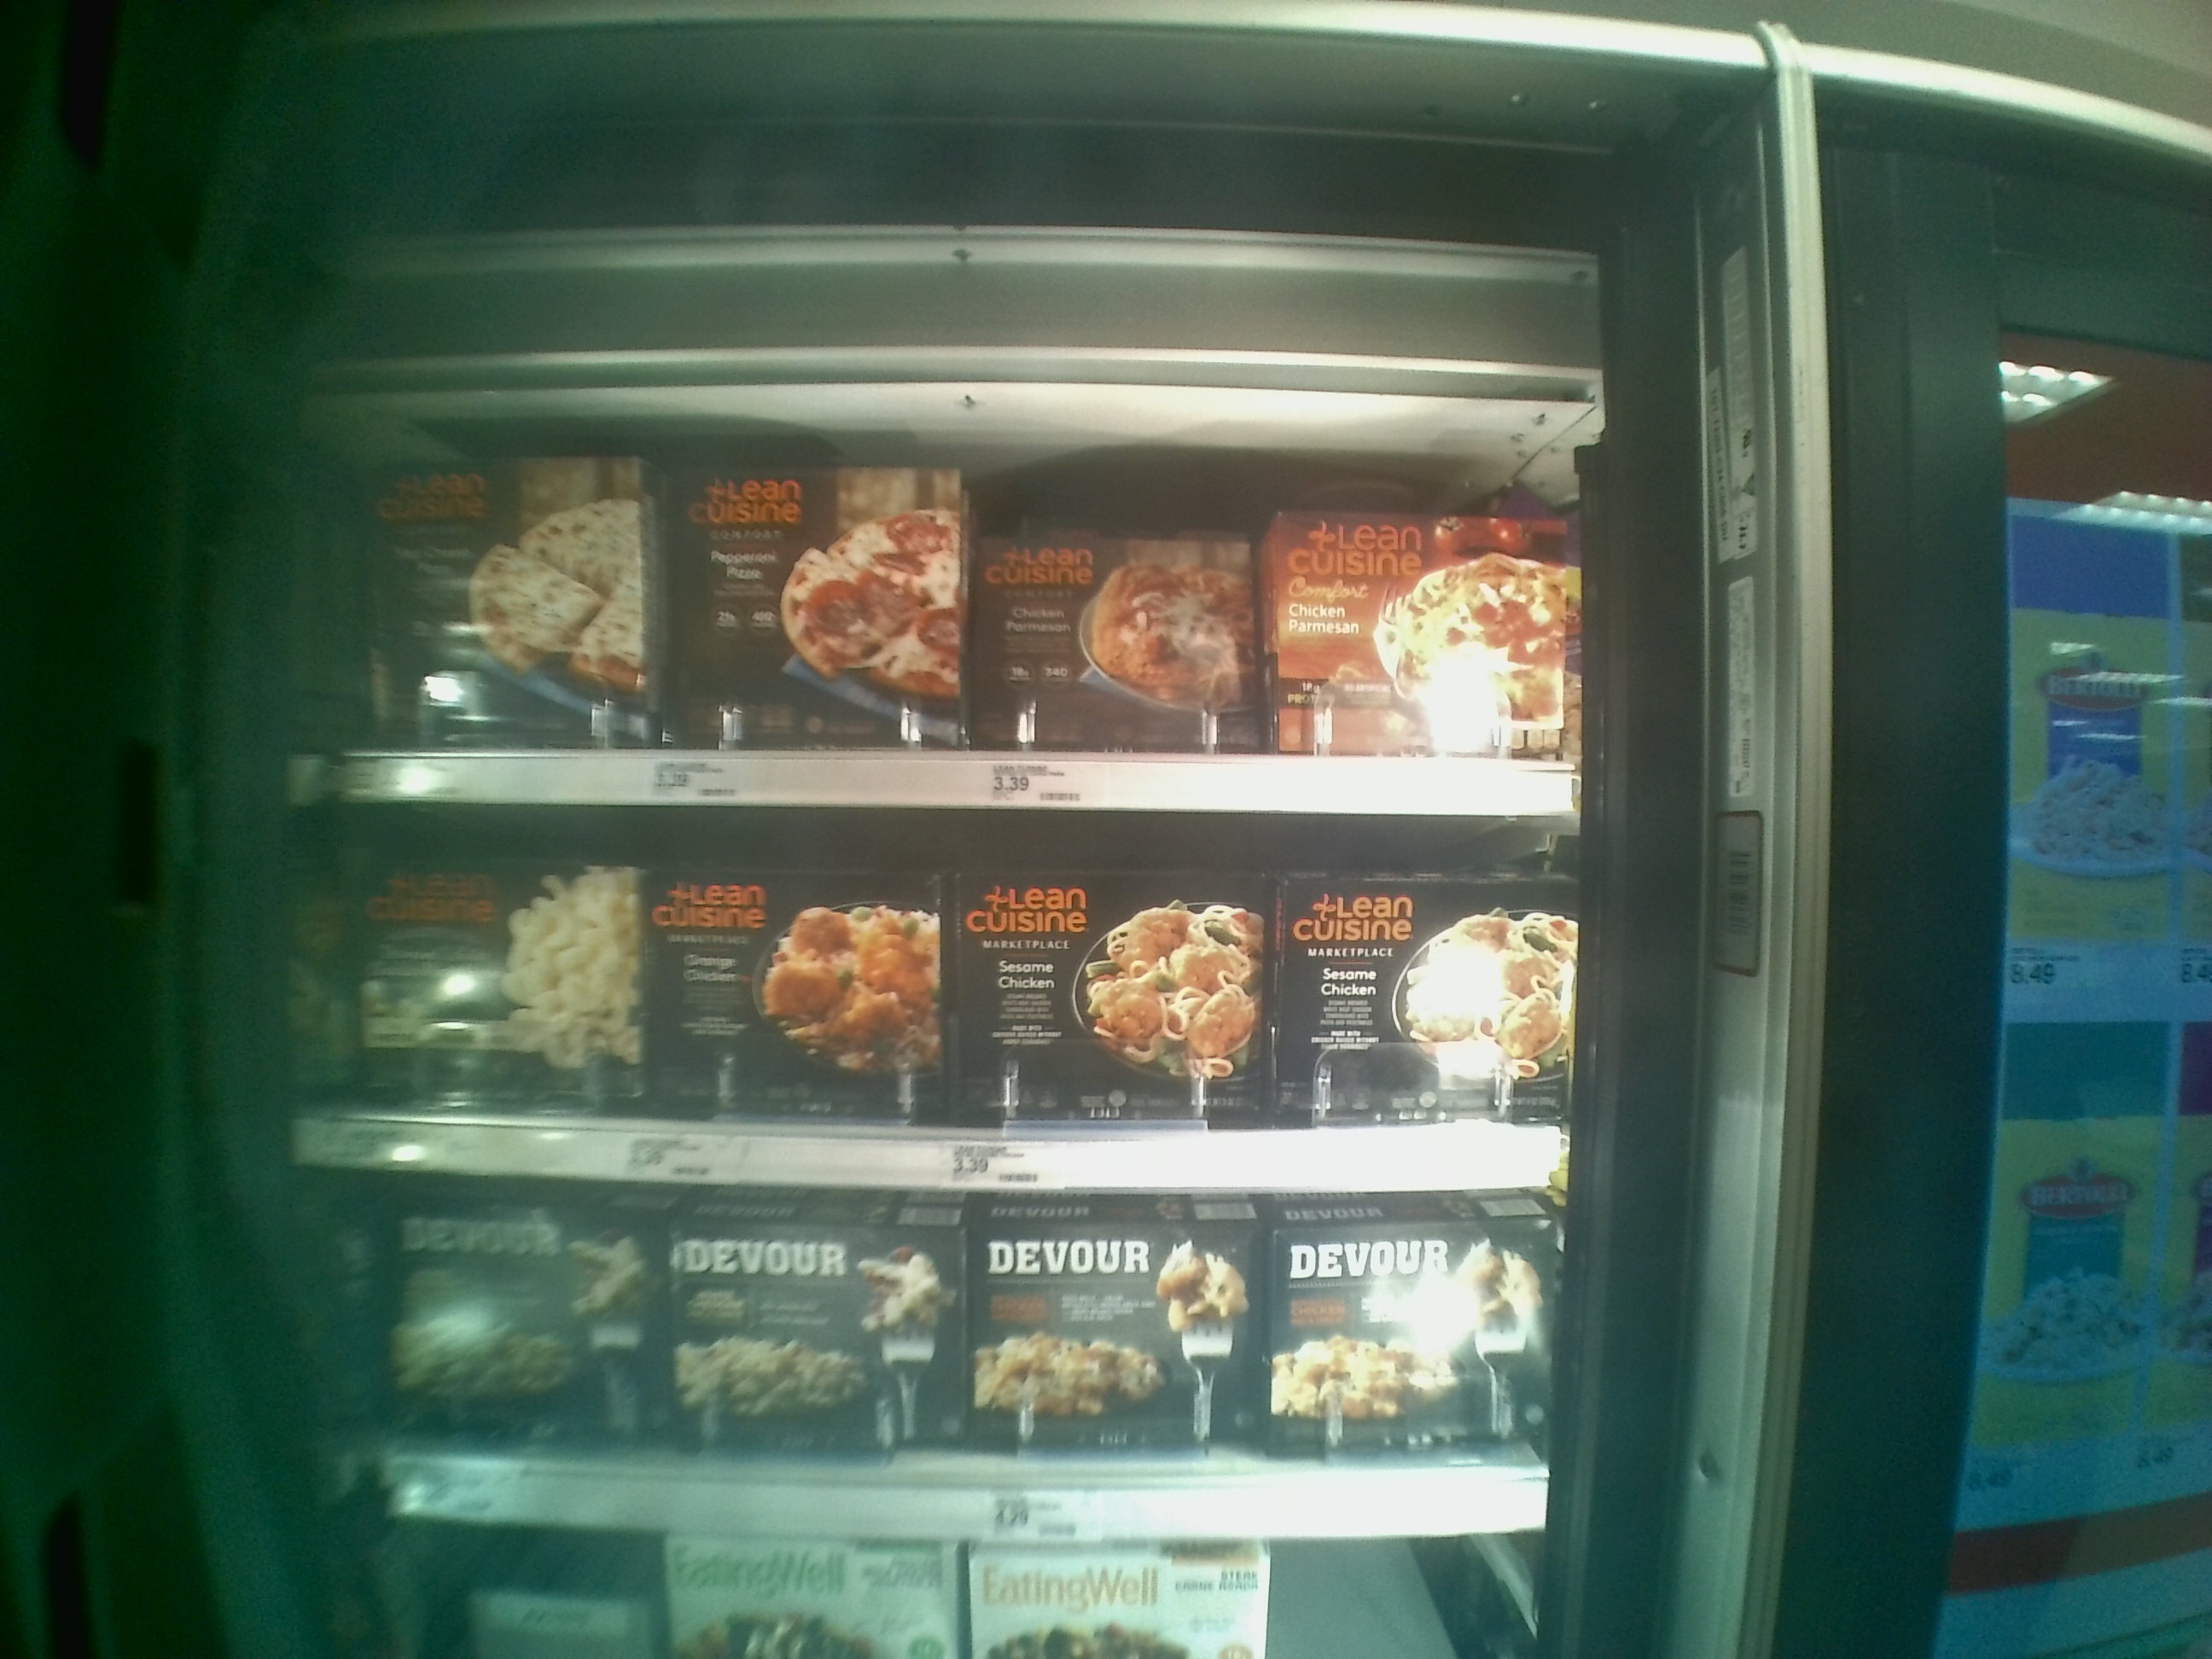pizza: (662, 458, 968, 737), (366, 451, 648, 742), (965, 852, 1256, 1119), (1268, 507, 1575, 758), (361, 852, 648, 1114), (960, 1209, 1254, 1459), (651, 871, 949, 1115), (671, 1201, 960, 1452), (1275, 885, 1576, 1115), (387, 1206, 658, 1450), (1261, 1215, 1538, 1453), (968, 537, 1254, 734)
